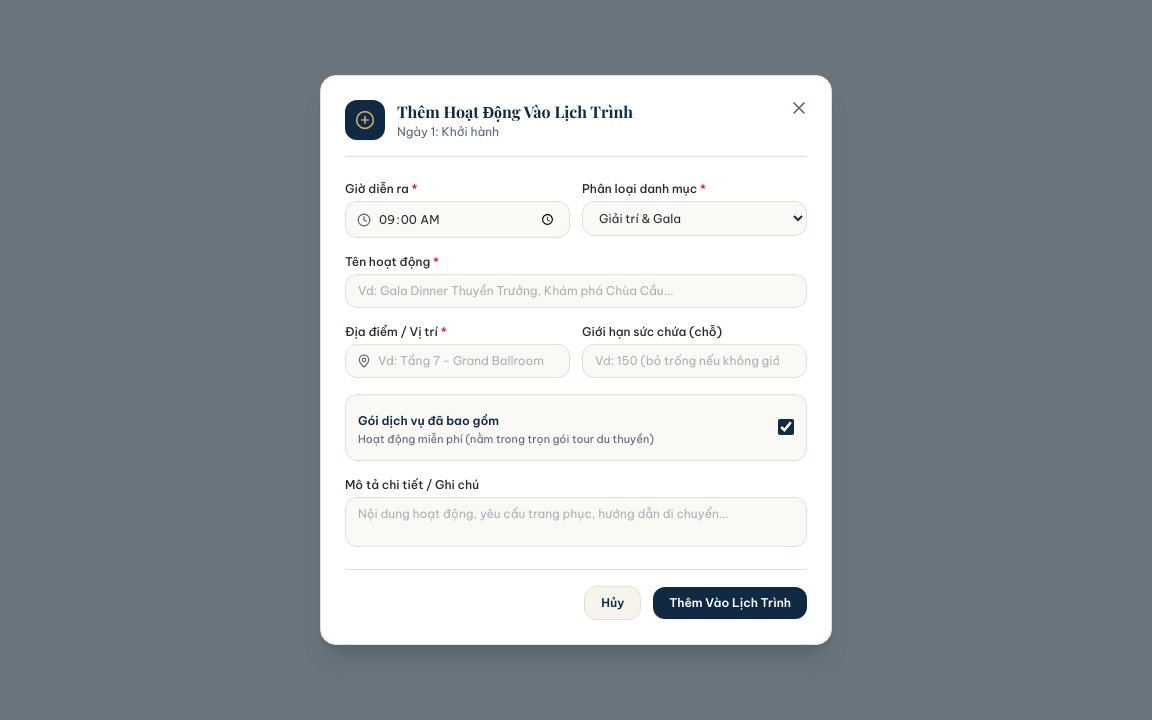
Scenario: Itinerary Validation and Error States (KAN-122) › ActivityFormModal - Field Validation Rules › shows validation error when time is cleared
The image size is (1152, 720).
Clear the time field showing "09:00": (458, 220) 345,202 -> 570,238
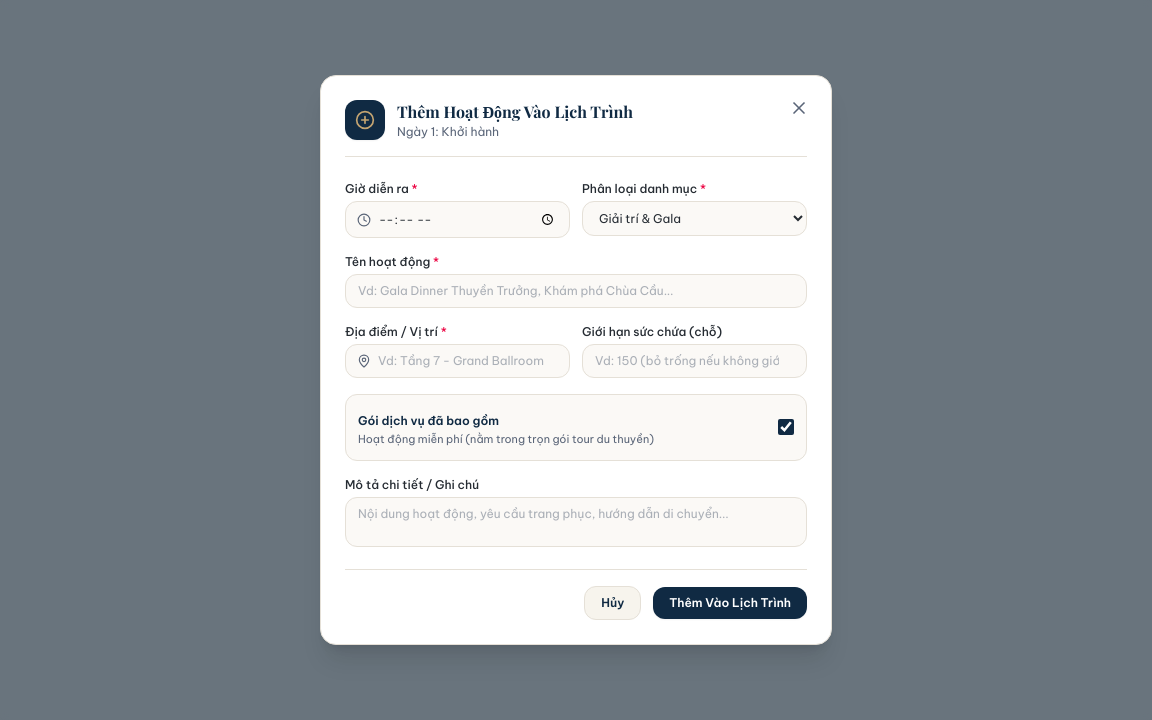
Click the button "Thêm Vào Lịch Trình": (730, 602) 653,586 -> 807,618
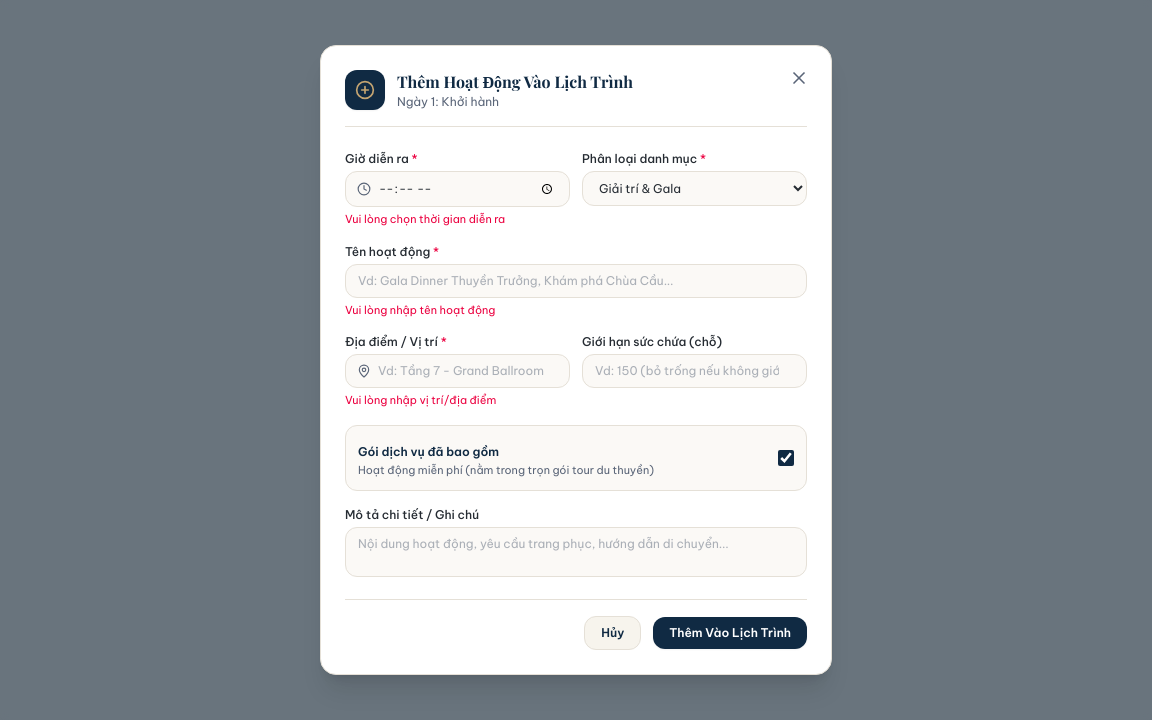
Result: the text "Vui lòng chọn thời gian diễn ra" is shown at 345,212 -> 505,226
